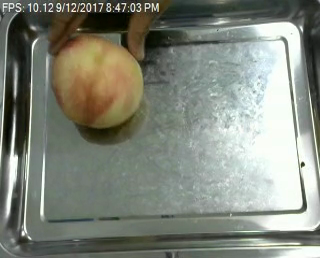Peach: (50, 33, 144, 128)
